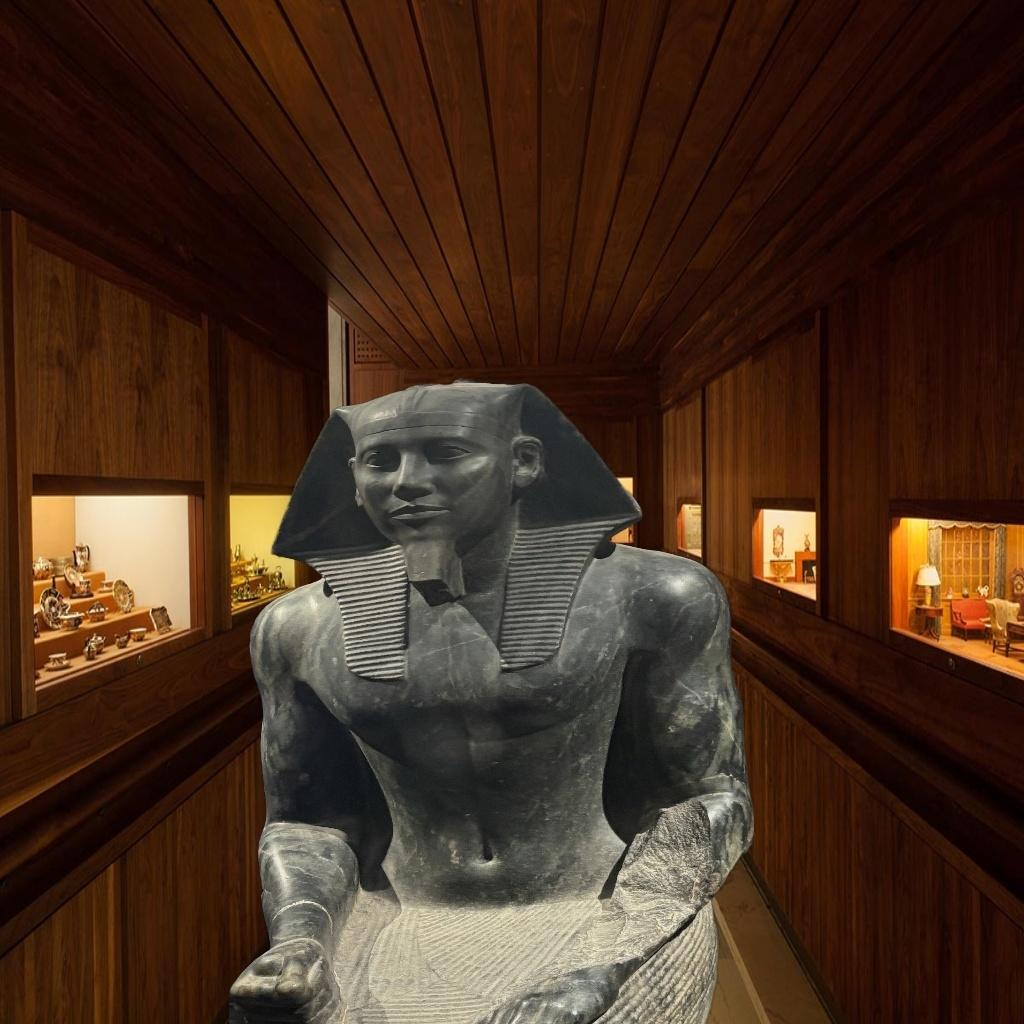Statue of Khafre: (230, 373, 754, 1024)
